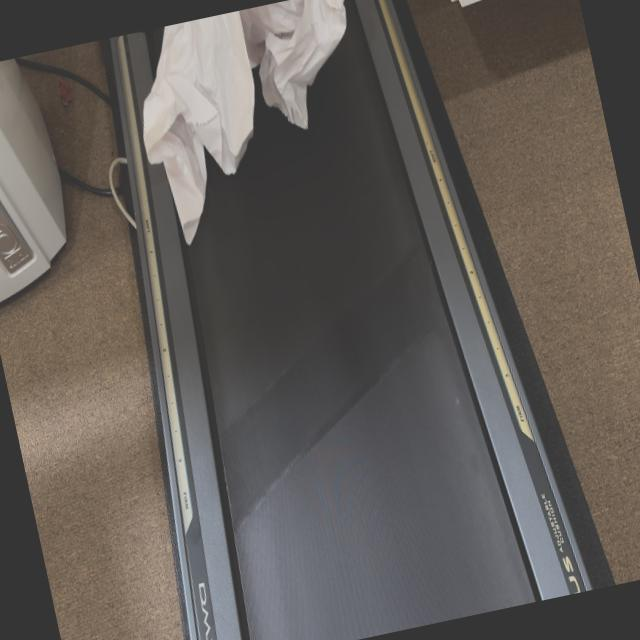Trash: (132, 0, 375, 208)
